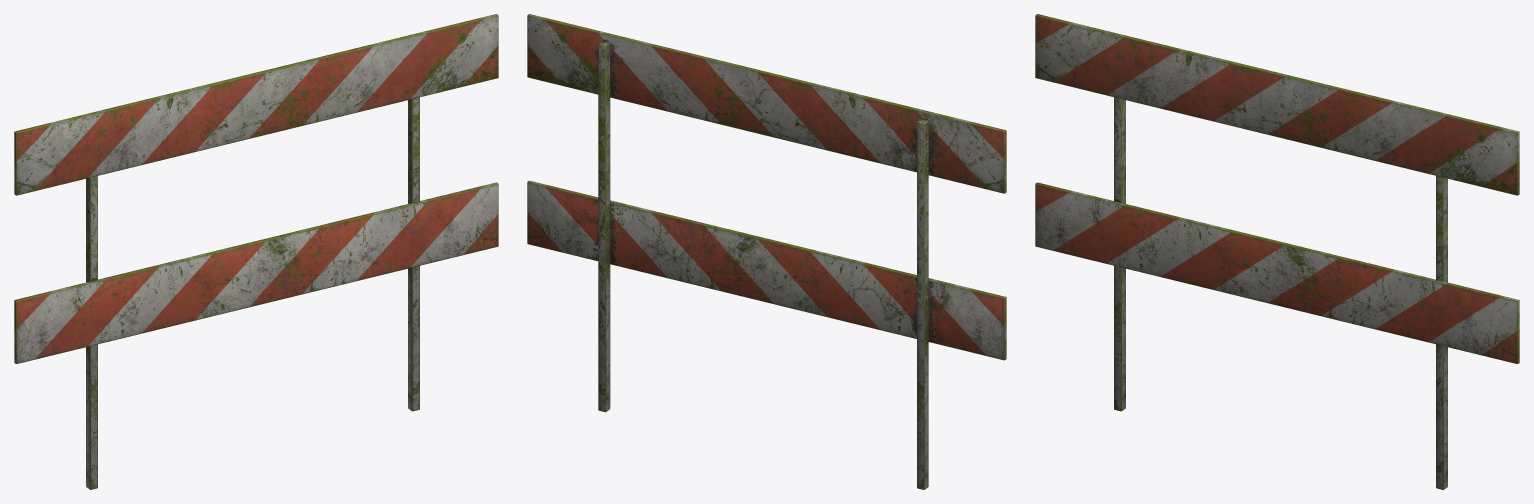
The model's file is RoadBorder_002.fbx.
The picture shows the model from 3 angles, left to right: view 1: azimuth 30°, elevation 25°; view 2: azimuth 150°, elevation 25°; view 3: azimuth 330°, elevation 25°; orthographic projection.
Parts seen in each view (by area): view 1: RoadBorder_002; view 2: RoadBorder_002; view 3: RoadBorder_002.
Boxes of the visible parts, left/top/right/bottom form: RoadBorder_002: left=14, top=14, right=498, bottom=489; RoadBorder_002: left=527, top=14, right=1006, bottom=489; RoadBorder_002: left=1035, top=14, right=1519, bottom=489.
Size of the model in its own units: 120 by 89.72 by 3.
1 material, 1 textured.
